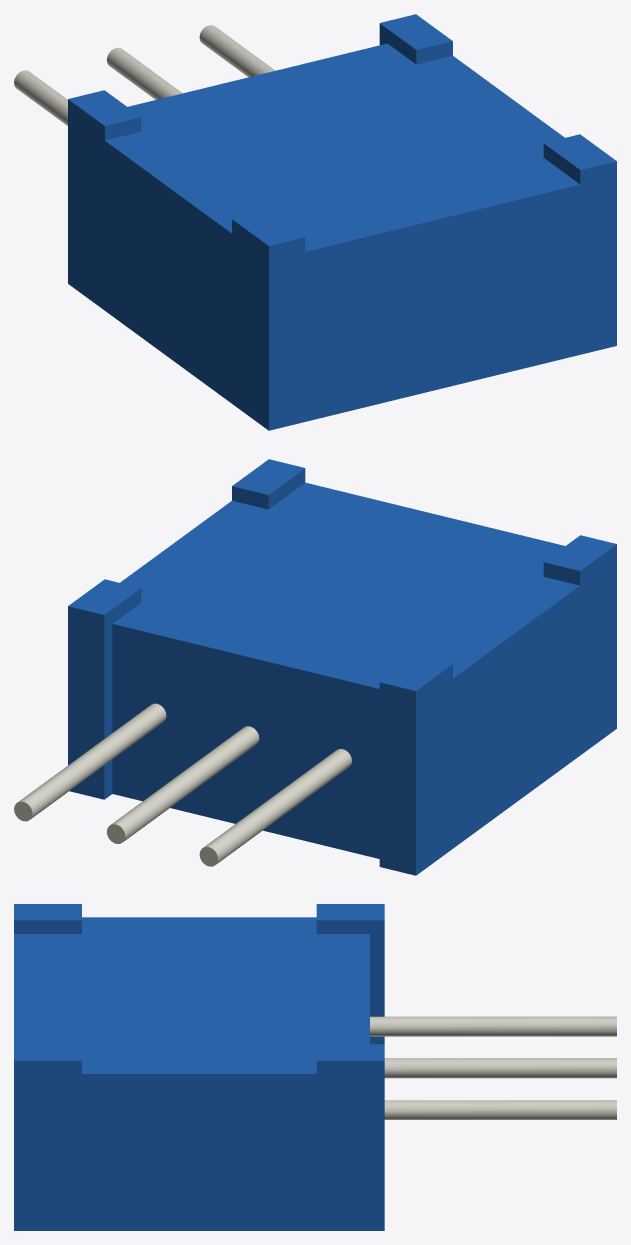
Rendered from potentiometer-bourns-3386w-h.glb.
3 renders of one model, top to bottom at view 1: azimuth 30°, elevation 25°; view 2: azimuth 150°, elevation 25°; view 3: azimuth 270°, elevation 25°, orthographic. The views are drawn at different scales.
Visible parts, largest first — view 1: PLASTIC-BLUE-01, PIN-01 (×3); view 2: PLASTIC-BLUE-01, PIN-01 (×3); view 3: PLASTIC-BLUE-01, PIN-01 (×3).
Boxes of the visible parts, x1,y1,x2,y2 form: PLASTIC-BLUE-01: (68, 14, 616, 430); PIN-01 (×3): (14, 25, 275, 125); PLASTIC-BLUE-01: (68, 459, 616, 875); PIN-01 (×3): (14, 703, 351, 866); PLASTIC-BLUE-01: (14, 904, 384, 1230); PIN-01 (×3): (370, 1016, 616, 1119).
Size of the model in its own units: 9.53 by 4.83 by 15.5.
